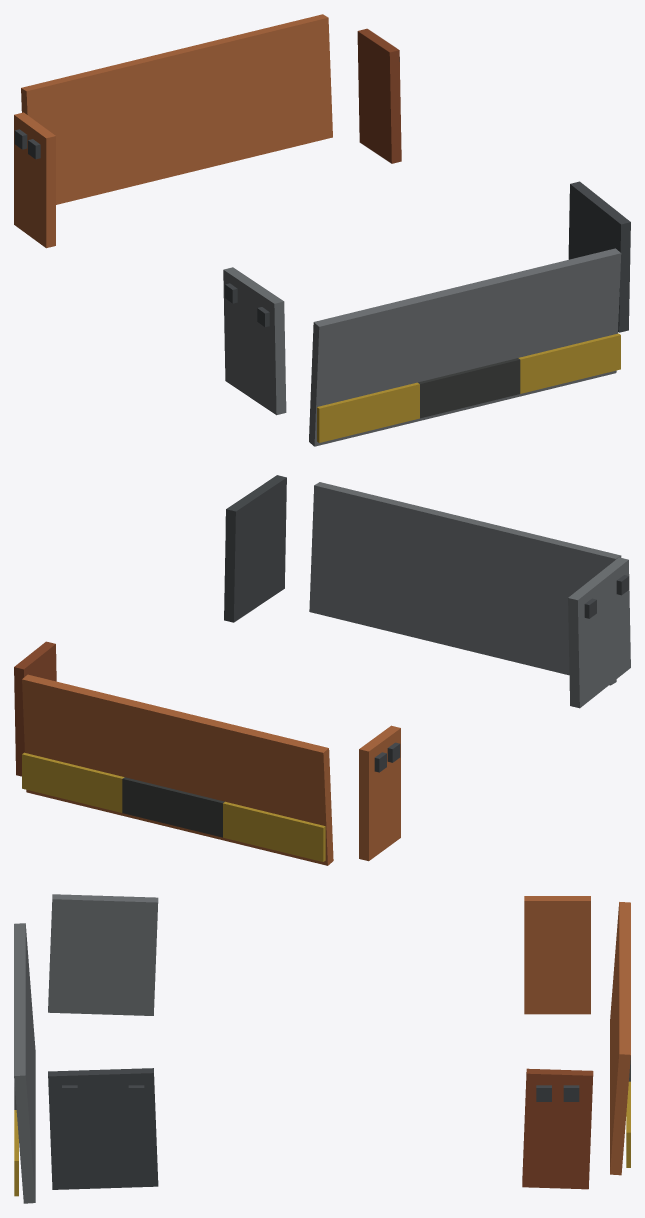
The model's file is upg_armor_plates_t0.glb.
The picture shows the model from 3 angles, top to bottom: view 1: azimuth 30°, elevation 25°; view 2: azimuth 150°, elevation 25°; view 3: azimuth 270°, elevation 25°; orthographic projection. The views are drawn at different scales.
Parts seen in each view (by area): view 1: armor_plates; view 2: armor_plates; view 3: armor_plates.
Part boxes in pixels (bbox=[...]): armor_plates: bbox=[14, 14, 630, 446]; armor_plates: bbox=[14, 475, 630, 865]; armor_plates: bbox=[14, 894, 630, 1203].
Size of the model in its own units: 1.11 by 0.4212 by 1.57.
